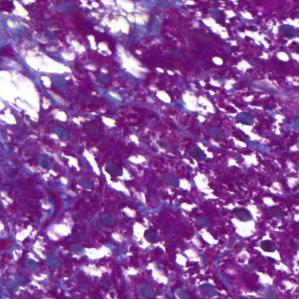ballooning: (82, 3, 154, 38)
